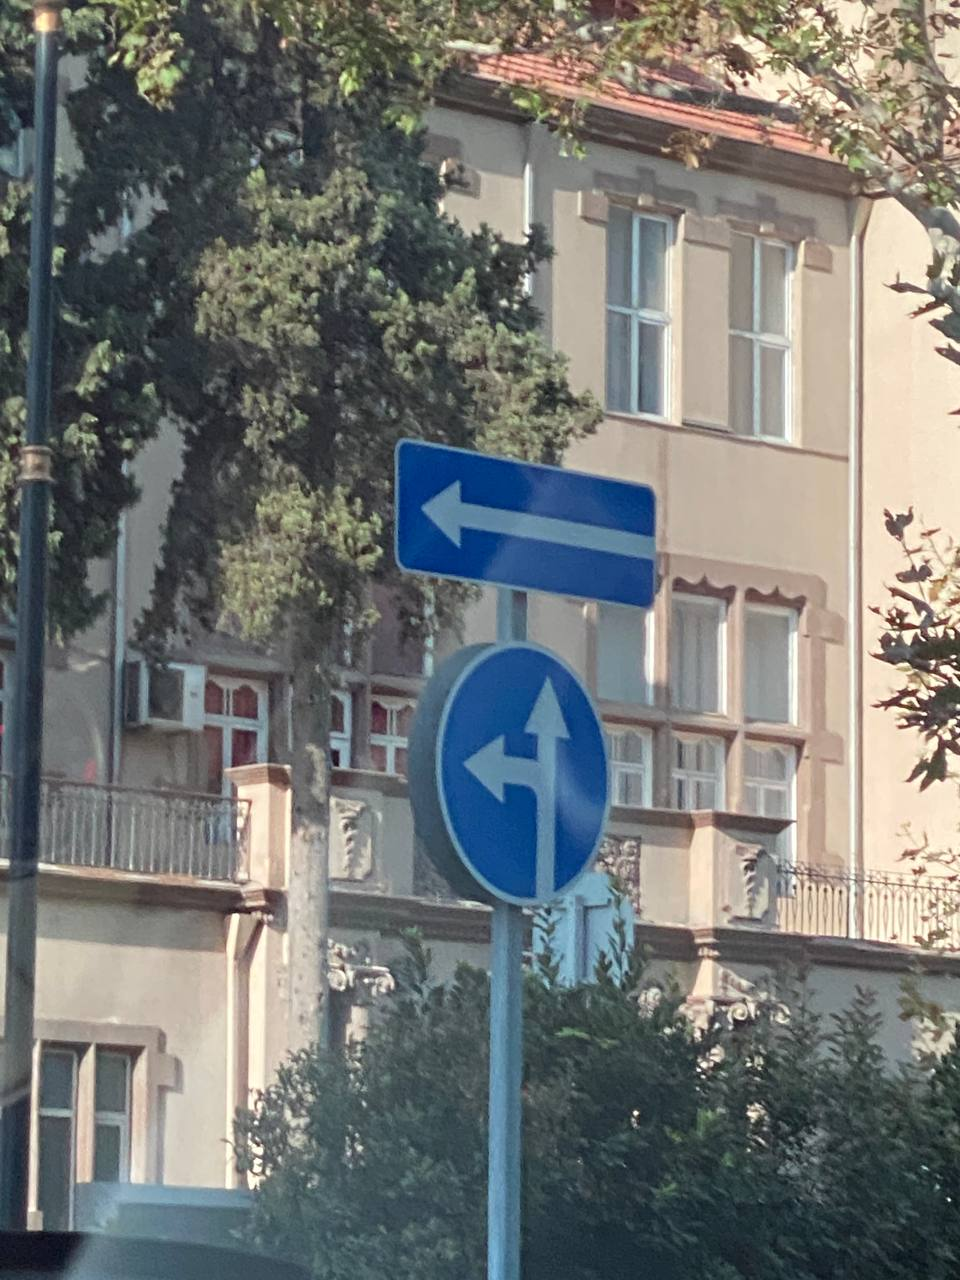One-Way Traffic: (393, 437, 657, 613)
Straight or Left: (435, 642, 610, 906)
